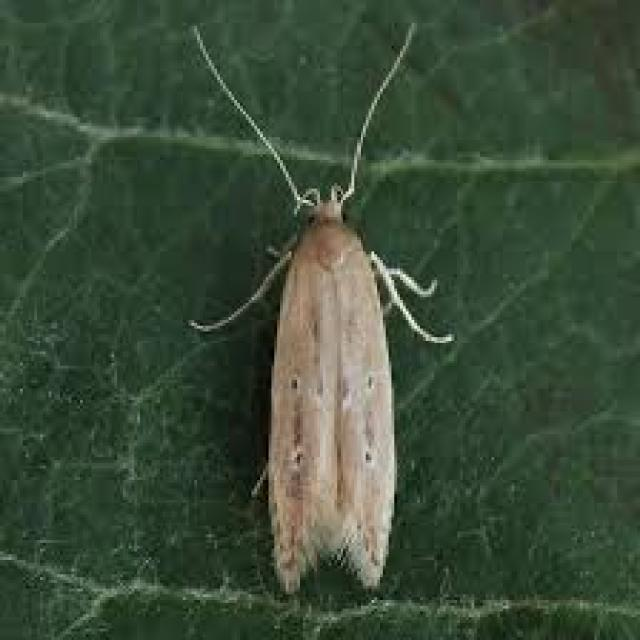yellow-stem-borer: (177, 125, 496, 586)
